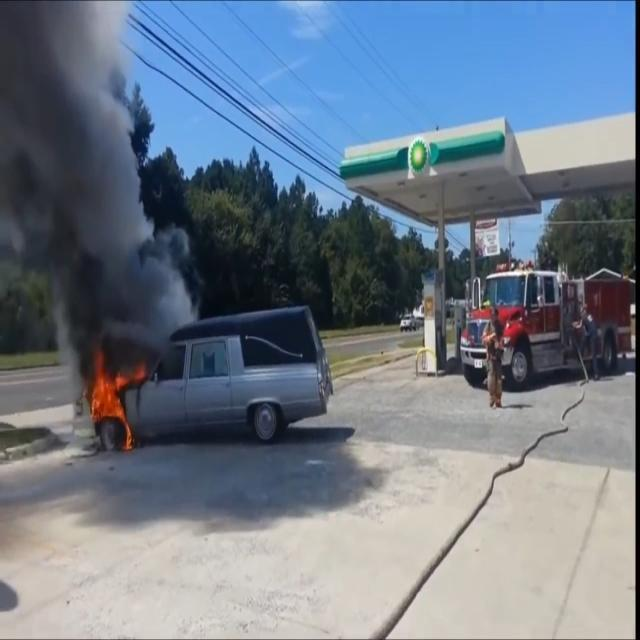fire: (85, 340, 150, 456)
